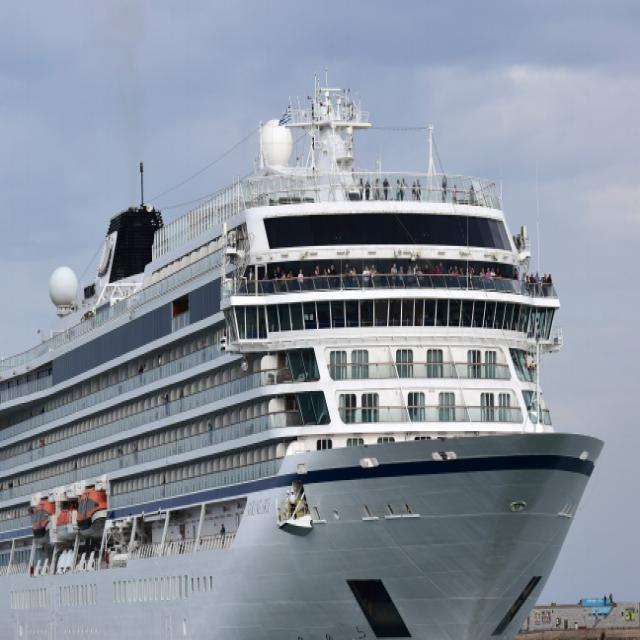cruises: (1, 78, 608, 640)
